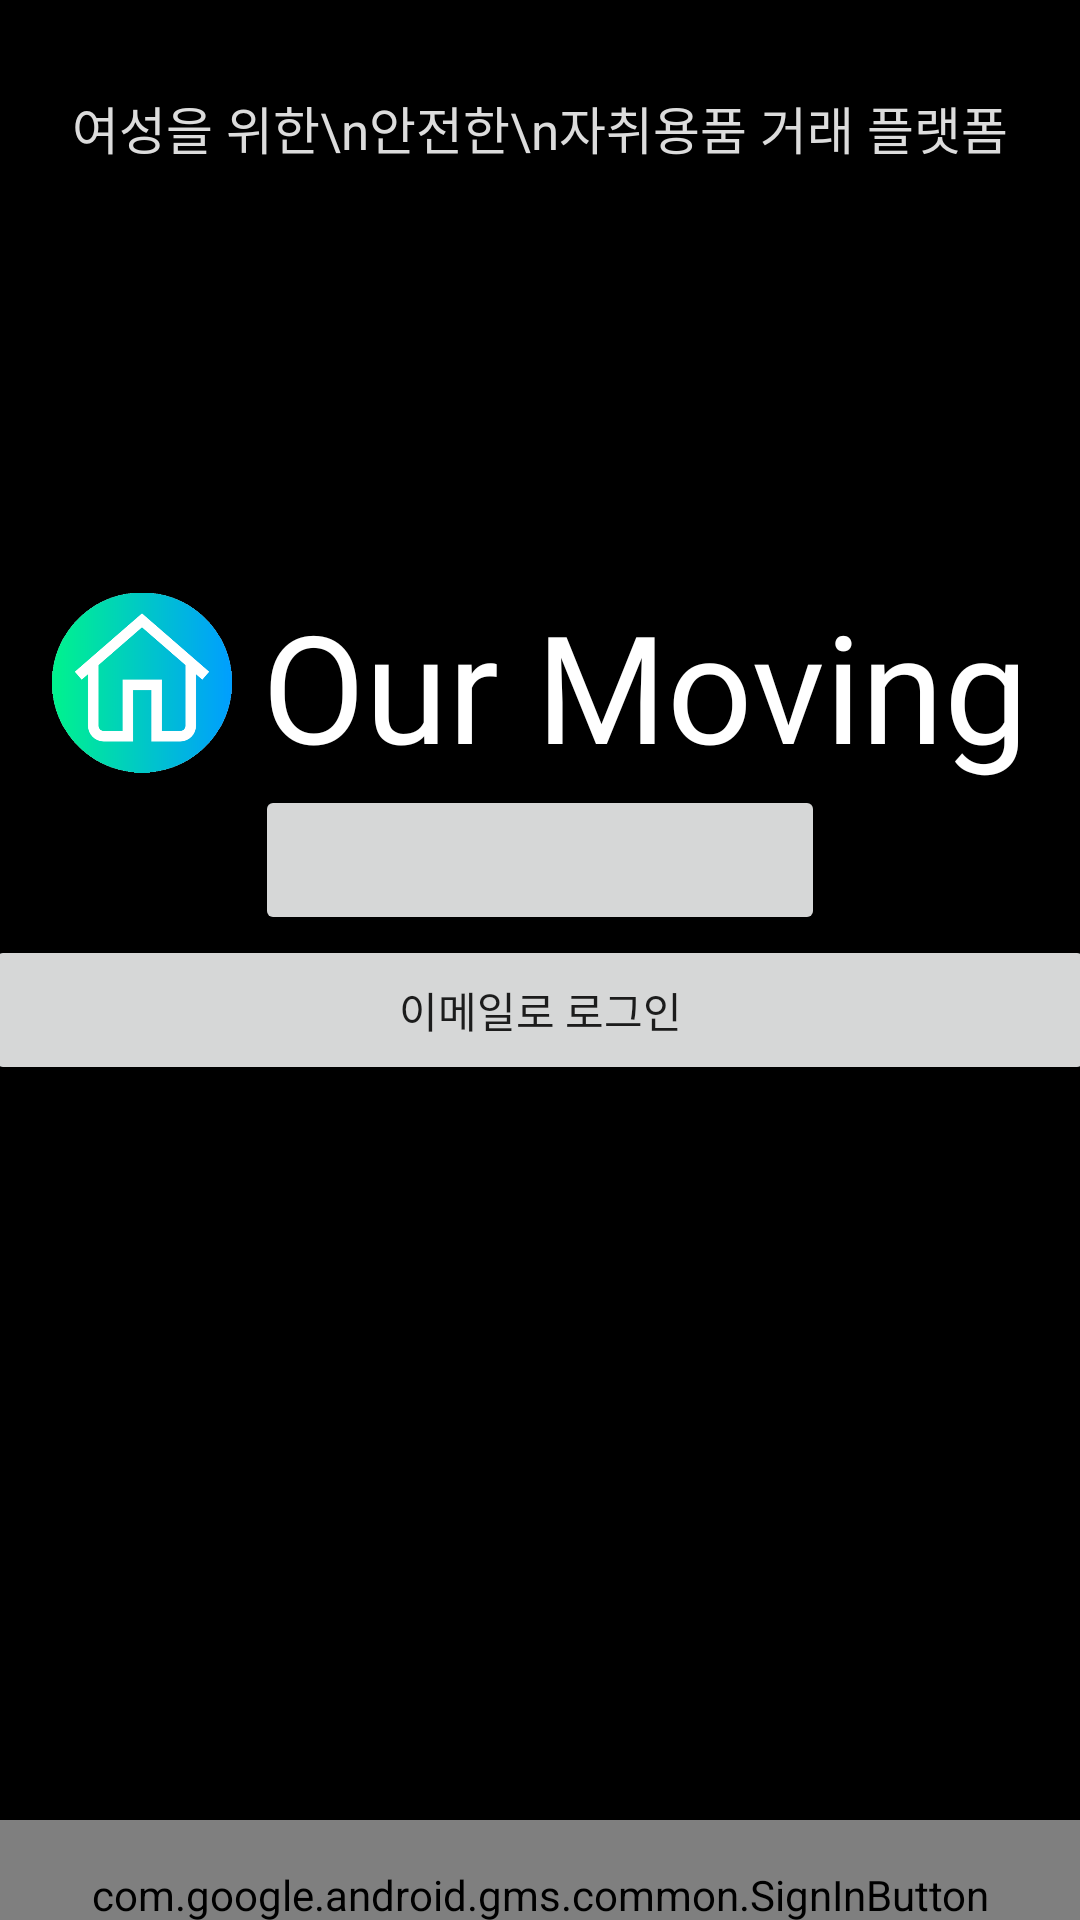

Where icons sit on this 1080*1920 app screen, as (x1, y1, x2, y2):
house: (52, 593, 232, 773)
